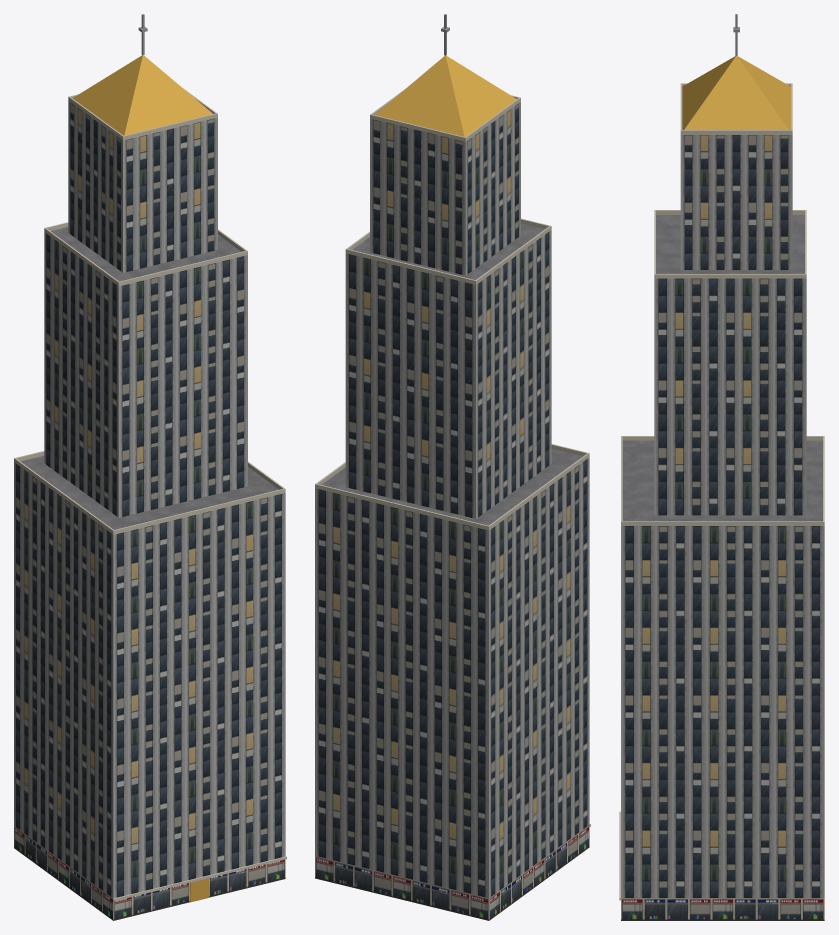
The model's file is 037_deco_gold_pyramid.glb.
The picture shows the model from 3 angles, left to right: view 1: azimuth 30°, elevation 25°; view 2: azimuth 150°, elevation 25°; view 3: azimuth 270°, elevation 25°; orthographic projection. The views are drawn at different scales.
Visible parts, largest first — view 1: 037_deco_gold_pyramid; view 2: 037_deco_gold_pyramid; view 3: 037_deco_gold_pyramid.
Part boxes in pixels (bbox=[...]): 037_deco_gold_pyramid: bbox=[14, 14, 286, 920]; 037_deco_gold_pyramid: bbox=[315, 14, 590, 920]; 037_deco_gold_pyramid: bbox=[619, 14, 824, 920].
Bounding box in the file's own units: 36.2 × 169 × 36.3.
6 materials, 3 textured.
